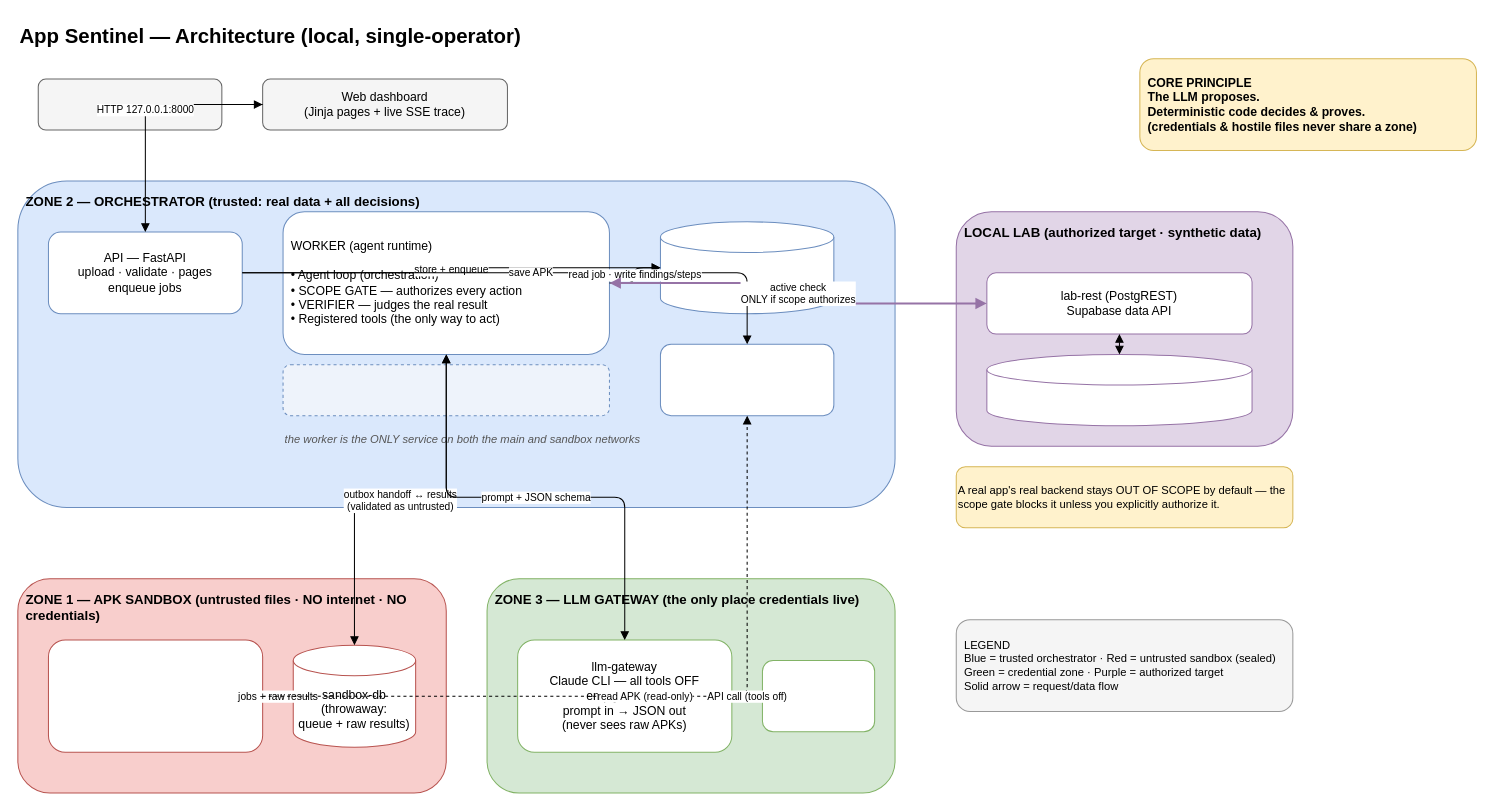
The diagram is 1494 pixels wide and 811 high, and some of its shapes have lost their labels. The centre of each missing label's shape, as x and y in pixels:
"Claude (model)" belongs at pixel 818 695.
"lab-db (PostgreSQL) Row Level Security broken / correct modes" belongs at pixel 1119 389.
"Loop: observe → decide (LLM) → validate → scope-gate → execute → verify → update" belongs at pixel 445 390.
"main-db (PostgreSQL) data + job queue findings · steps (audit)" belongs at pixel 746 267.
"Operator (you) — only you, on this machine" belongs at pixel 129 104.
"sandbox-worker androguard (manifest) + content scanner decompiles hostile APKs" belongs at pixel 155 695.
"Storage (volume) APKs + evidence (internal keys)" belongs at pixel 746 379.
